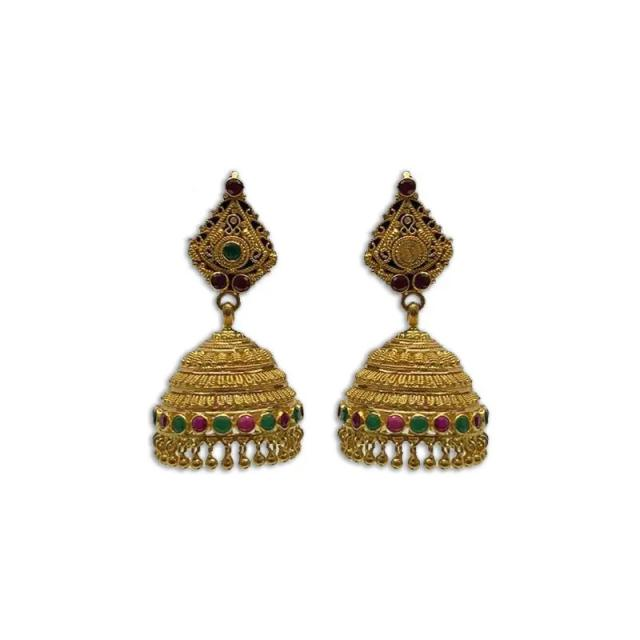missing gem: (399, 242, 418, 262)
